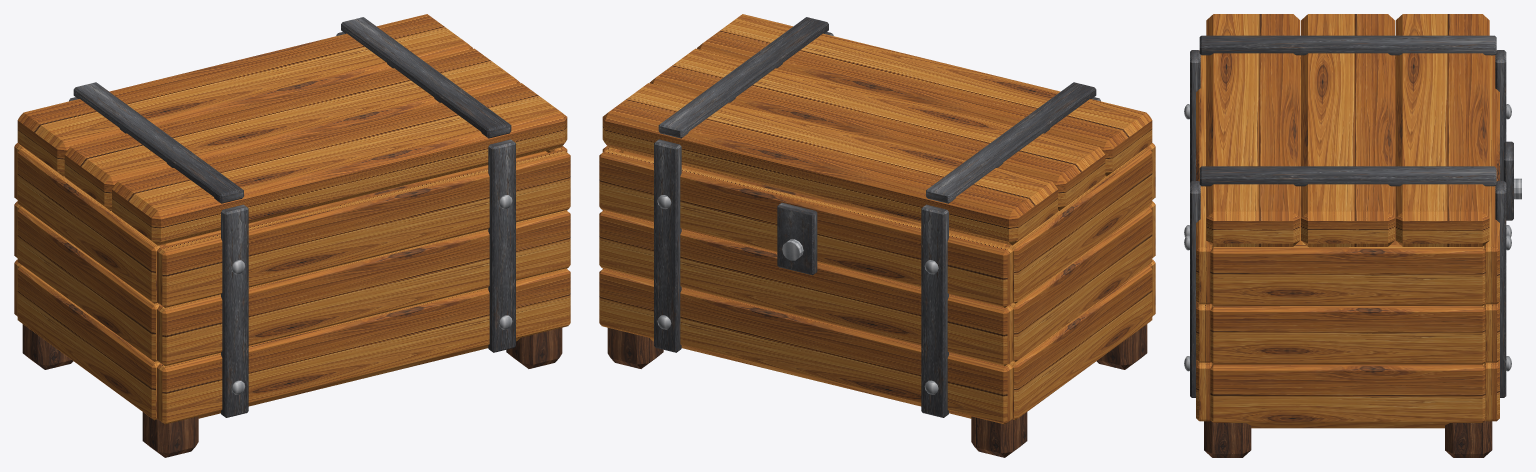
The model's file is InteriorCozy_Chest.fbx.
3 renders of one model, left to right at view 1: azimuth 30°, elevation 25°; view 2: azimuth 150°, elevation 25°; view 3: azimuth 270°, elevation 25°, orthographic.
Parts seen in each view (by area): view 1: InteriorCozy_Chest; view 2: InteriorCozy_Chest; view 3: InteriorCozy_Chest.
Part boxes in pixels (bbox=[...]): InteriorCozy_Chest: bbox=[14, 14, 570, 457]; InteriorCozy_Chest: bbox=[599, 14, 1155, 457]; InteriorCozy_Chest: bbox=[1184, 14, 1521, 457].
Size of the model in its own units: 1.12 by 0.6575 by 0.785.
